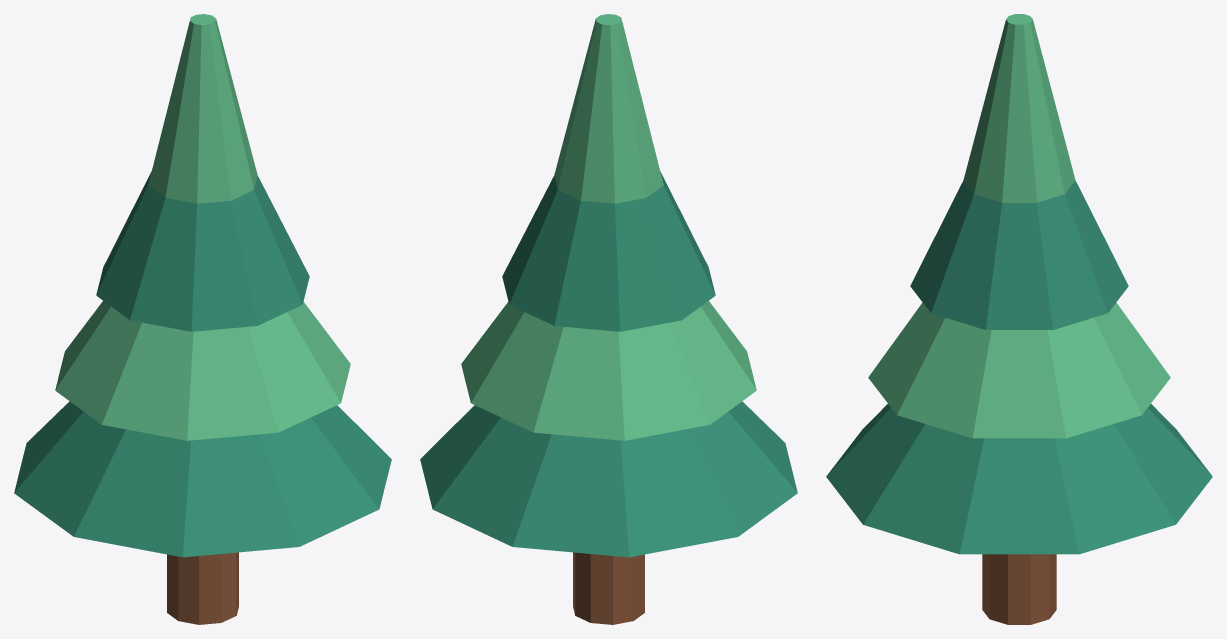
File: LakesideTree.fbx
3 renders of one model, left to right at view 1: azimuth 30°, elevation 25°; view 2: azimuth 150°, elevation 25°; view 3: azimuth 270°, elevation 25°, orthographic.
Visible parts, largest first — view 1: PineLayer00, PineLayer01, PineLayer02, PineLayer03, TreeTrunk; view 2: PineLayer00, PineLayer01, PineLayer02, PineLayer03, TreeTrunk; view 3: PineLayer00, PineLayer01, PineLayer02, PineLayer03, TreeTrunk.
Boxes of the visible parts, <box> form: PineLayer00: <box>14,401,391,557</box>; PineLayer01: <box>55,301,350,440</box>; PineLayer02: <box>96,171,309,331</box>; PineLayer03: <box>148,14,257,203</box>; TreeTrunk: <box>167,552,238,624</box>; PineLayer00: <box>420,401,797,557</box>; PineLayer01: <box>461,301,756,440</box>; PineLayer02: <box>502,171,715,331</box>; PineLayer03: <box>554,14,663,203</box>; TreeTrunk: <box>573,552,644,624</box>; PineLayer00: <box>826,404,1212,554</box>; PineLayer01: <box>868,302,1170,438</box>; PineLayer02: <box>910,180,1128,329</box>; PineLayer03: <box>963,14,1075,202</box>; TreeTrunk: <box>982,554,1056,624</box>.
Size of the model in its own units: 219 by 387 by 230.
